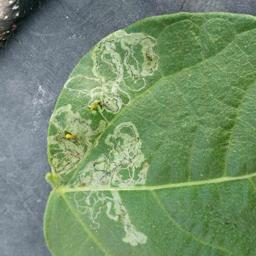liriomyza: (46, 28, 160, 248)
